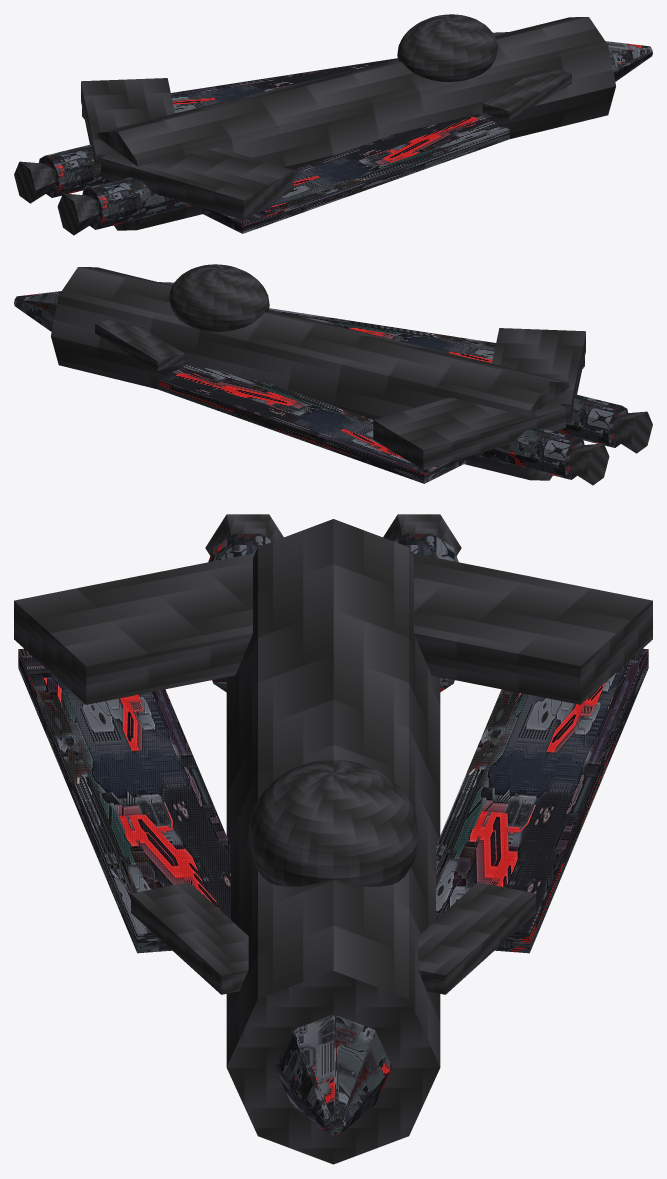
File: PlaneV1.fbx
3 renders of one model, top to bottom at view 1: azimuth 30°, elevation 25°; view 2: azimuth 150°, elevation 25°; view 3: azimuth 270°, elevation 25°, orthographic. The views are drawn at different scales.
Visible parts, largest first — view 1: Cone.001; view 2: Cone.001; view 3: Cone.001.
Part boxes in pixels (box(x1,y1,x2,y2)): Cone.001: box(14, 14, 652, 235); Cone.001: box(14, 264, 652, 485); Cone.001: box(14, 514, 652, 1164).
Size of the model in its own units: 6.4 by 1.32 by 2.99.
Materials: 4 (4 with a texture image).
